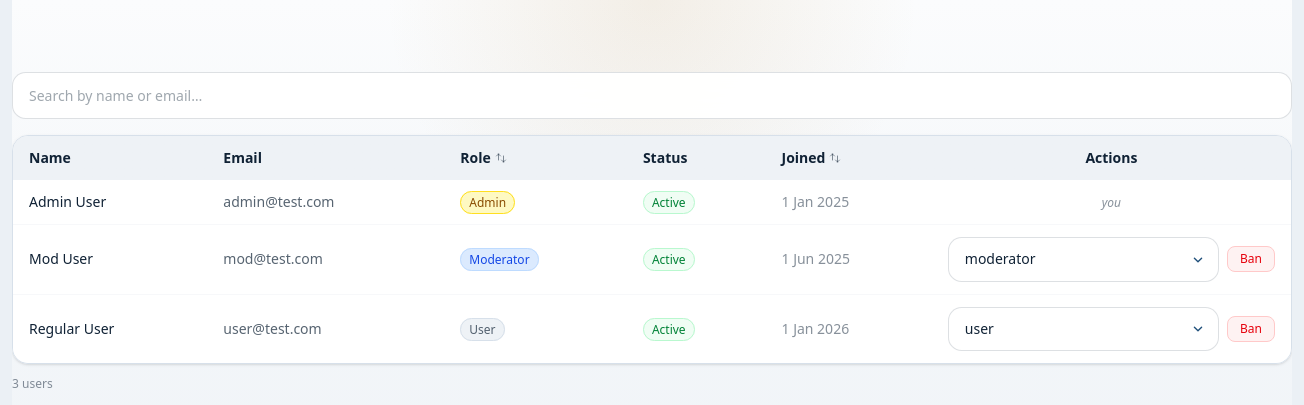
UsersTab › filters users by search
Type "mod" into the field with placeholder "Search by name or email…" at coordinates (652, 96), box [12, 72, 1292, 119]
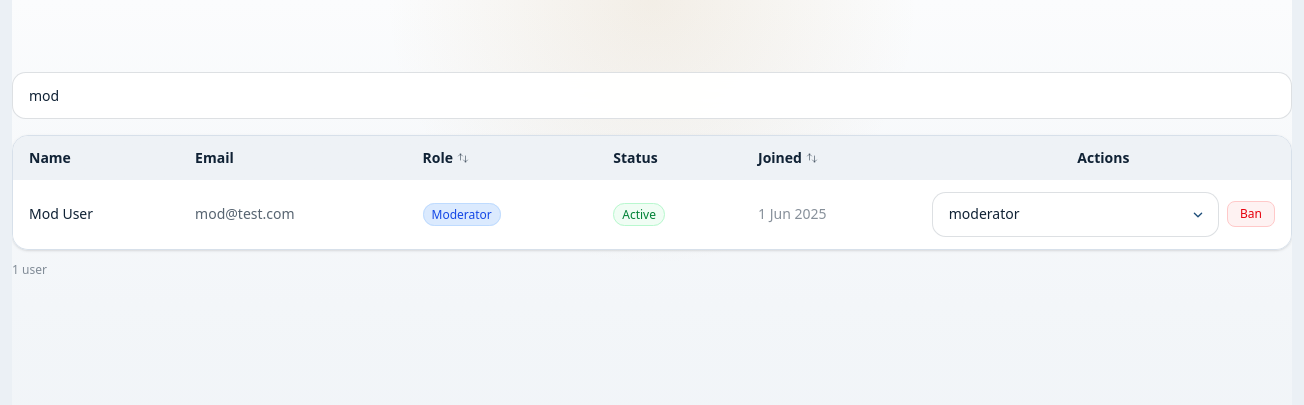
Check: the text "Regular User" is gone
